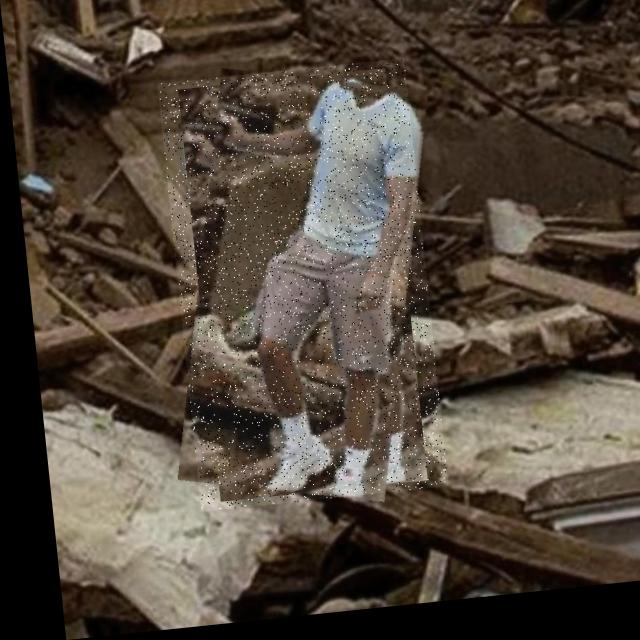Person in Rubble: (155, 67, 437, 515)
